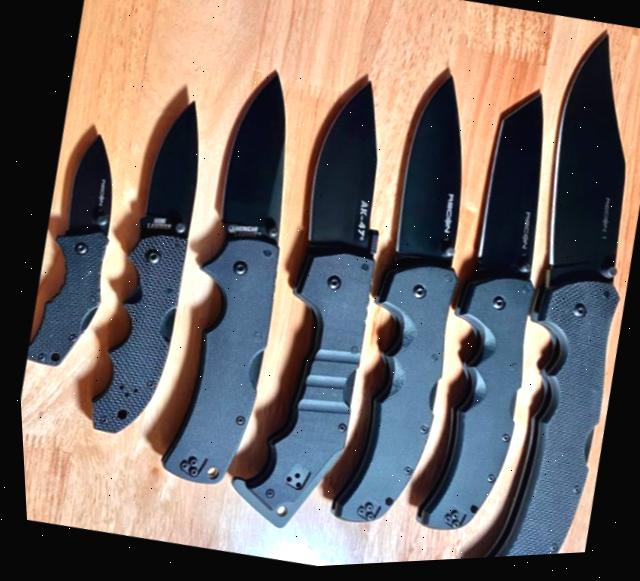pocket-knife: (194, 59, 431, 551), (428, 20, 640, 564), (297, 61, 509, 544), (385, 80, 586, 553), (127, 55, 329, 507), (60, 83, 228, 451), (13, 122, 141, 378)
